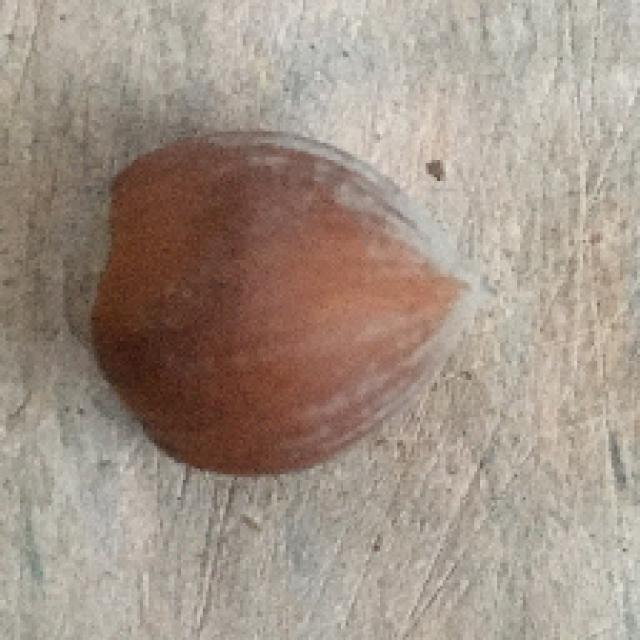qualityHazelnut: (60, 123, 482, 480)
